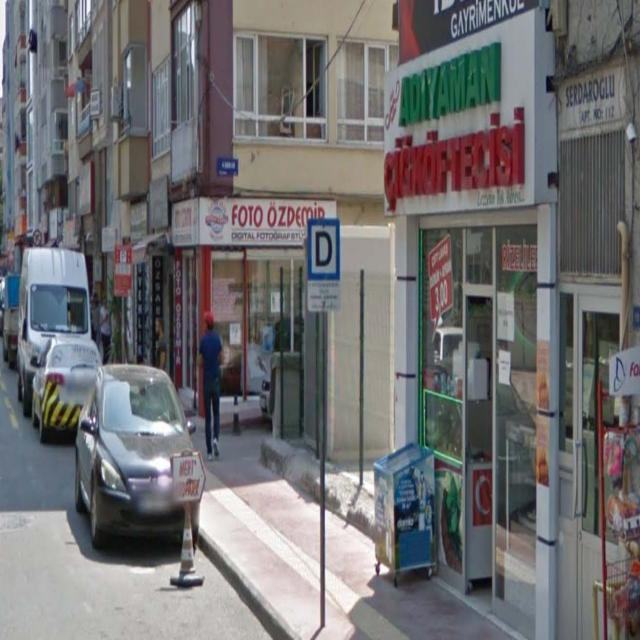durak: (308, 219, 342, 280)
